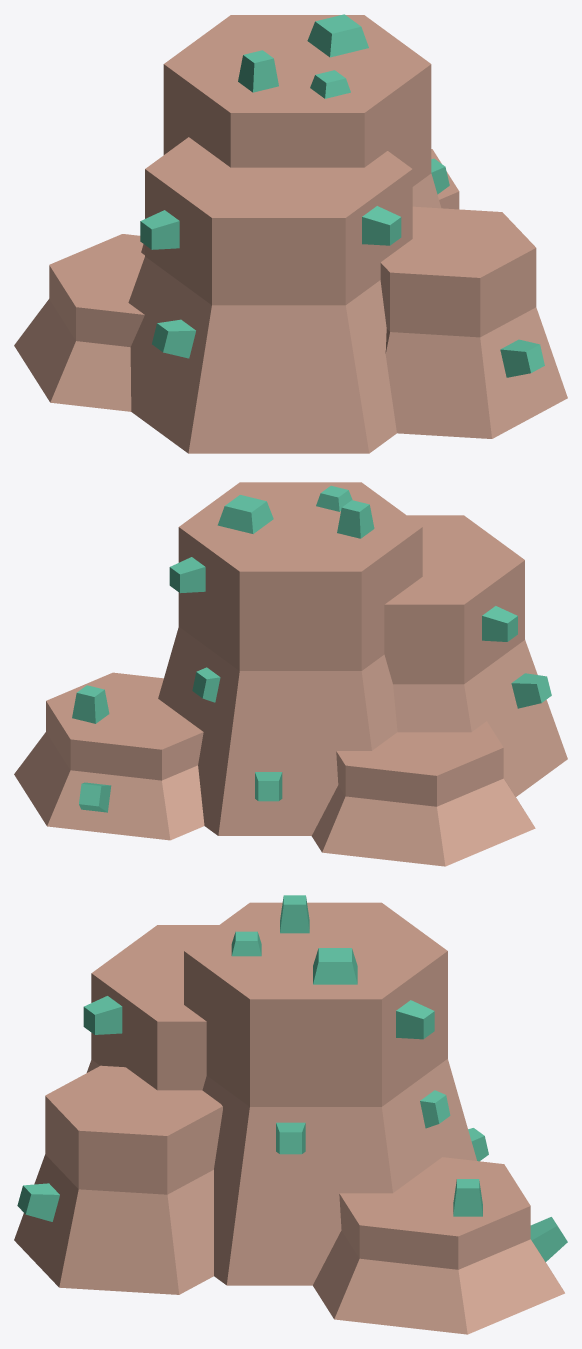
The model's file is rock_crystalsLargeB.glb.
3 renders of one model, top to bottom at view 1: azimuth 30°, elevation 25°; view 2: azimuth 150°, elevation 25°; view 3: azimuth 270°, elevation 25°, orthographic. The views are drawn at different scales.
Visible parts, largest first — view 1: rock_crystalsLargeB; view 2: rock_crystalsLargeB; view 3: rock_crystalsLargeB.
Boxes of the visible parts, bbox=[...] form: rock_crystalsLargeB: bbox=[14, 14, 567, 453]; rock_crystalsLargeB: bbox=[14, 482, 567, 866]; rock_crystalsLargeB: bbox=[14, 895, 567, 1334].
Size of the model in its own units: 0.9393 by 0.55 by 0.9321.
